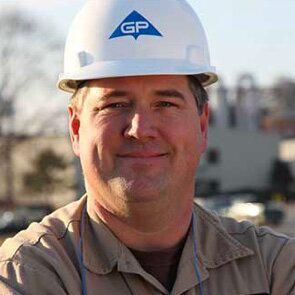helmet: (56, 0, 219, 94)
